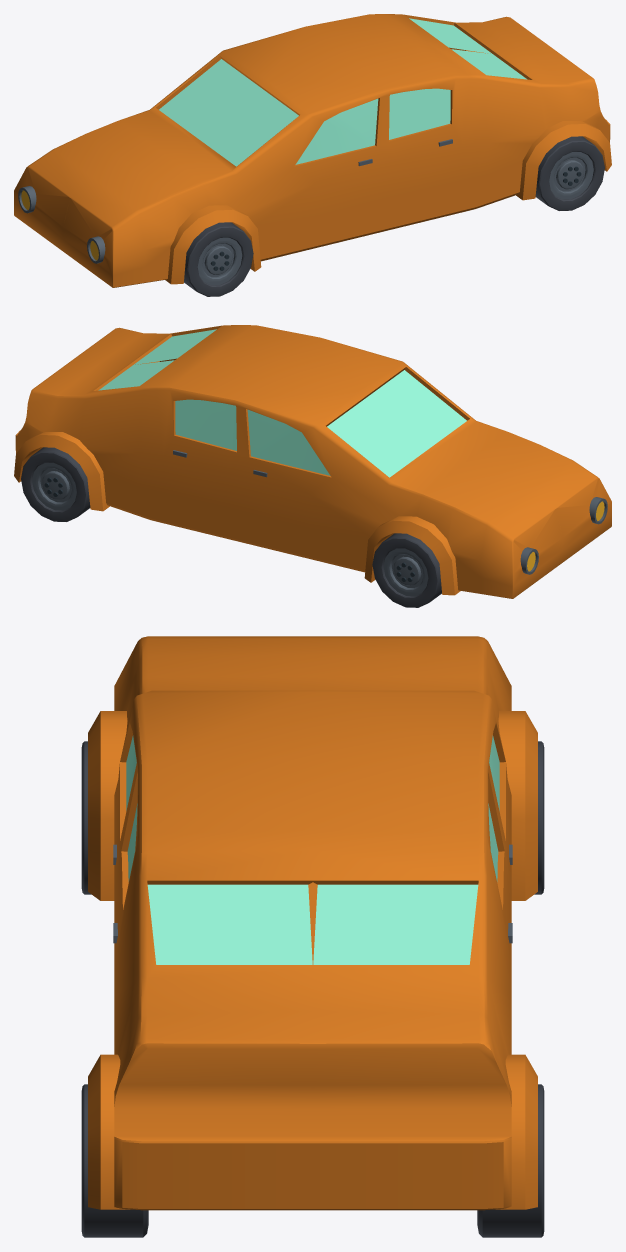
File: CarOrange.fbx
The picture shows the model from 3 angles, top to bottom: view 1: azimuth 30°, elevation 25°; view 2: azimuth 150°, elevation 25°; view 3: azimuth 270°, elevation 25°; orthographic projection. The views are drawn at different scales.
Visible parts, largest first — view 1: Car.004, Wheels.004; view 2: Car.004, Wheels.004; view 3: Car.004, Wheels.004.
Part boxes in pixels (box(x1,y1,x2,y2)): Car.004: box(14, 14, 611, 287); Wheels.004: box(184, 136, 604, 296); Car.004: box(14, 325, 611, 598); Wheels.004: box(21, 447, 441, 607); Car.004: box(88, 636, 537, 1210); Wheels.004: box(81, 741, 544, 1237).
Bounding box in the file's own units: 451 × 131 × 179.
